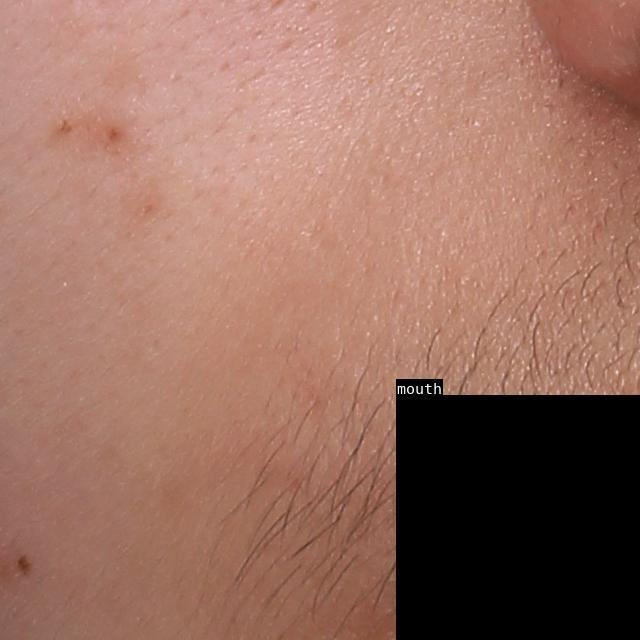nevus: (16, 554, 34, 579)
